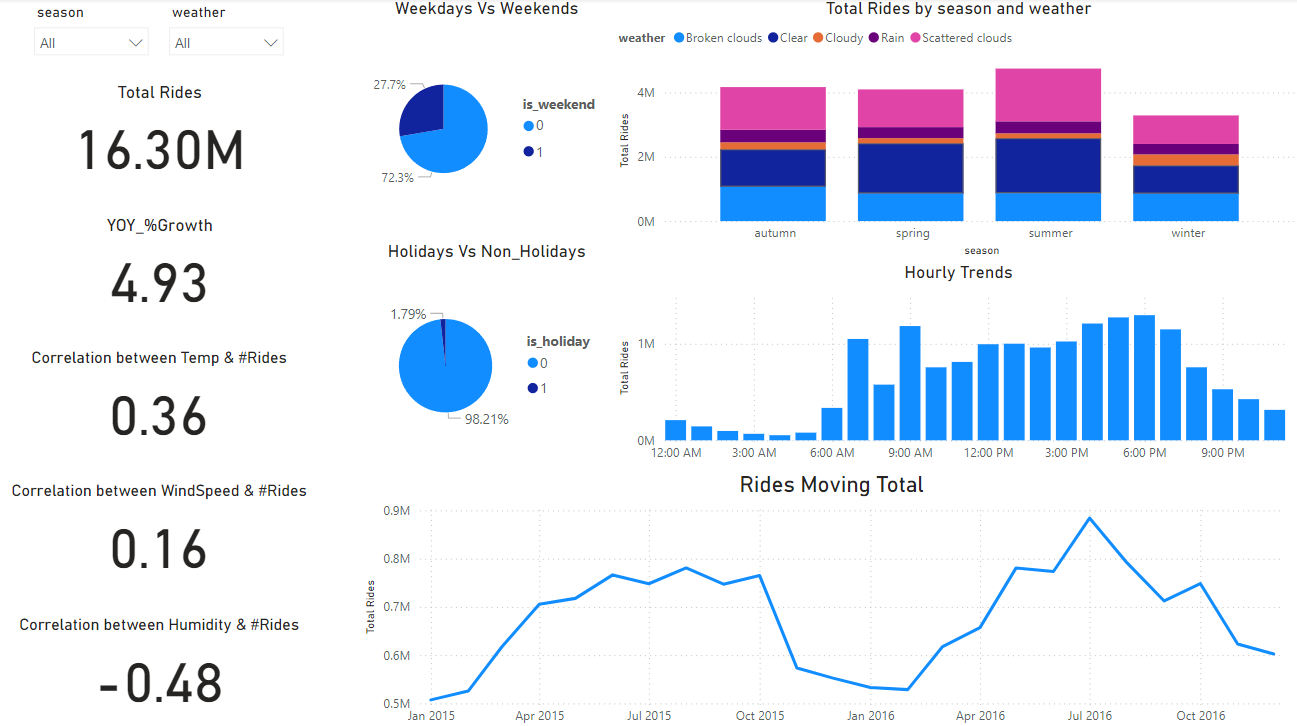

This screenshot's page, from the dashboard's own definition file:
{"tool":"powerbi","page":{"name":"DashBoard","canvas":[1280,720],"ordinal":0},"visuals":[{"type":"card","title":"Total Rides","fields":{"Values":["Table.Total Rides"]},"box":[26.3,81.5,266.6,100],"z":0},{"type":"pieChart","title":"Holidays Vs Non_Holidays","fields":{"Category":["TFL_Bike_Sharing.is_holiday"],"Y":["Measures_Table.Total Rides"]},"box":[355.8,237.2,248.2,226.2],"z":1000},{"type":"pieChart","title":"Weekdays Vs Weekends","fields":{"Y":["Measures_Table.Total Rides"],"Category":["TFL_Bike_Sharing.is_weekend"]},"box":[355.8,0,248.2,237.2],"z":2000},{"type":"columnChart","fields":{"Y":["Measures_Table.Total Rides"],"Category":["TFL_Bike_Sharing.season"],"Series":["TFL_Bike_Sharing.weather"]},"box":[604.5,0,675.2,258.3],"z":3000},{"type":"card","title":"Correlation between Humidity & #Rides","fields":{"Values":["Measures_Table.humidity and Total Rides correlation for time"]},"box":[0,604.1,319.2,100.3],"z":4000},{"type":"card","title":"Correlation between WindSpeed & #Rides","fields":{"Values":["Measures_Table.wind_speed and Total Rides correlation for time"]},"box":[0,473.5,319.2,100],"z":5000},{"type":"card","title":"Correlation between Temp & #Rides","fields":{"Values":["Measures_Table.temp_real_C and Total Rides correlation for time"]},"box":[0,342.6,319.2,100.3],"z":6000},{"type":"columnChart","title":"Hourly Trends","fields":{"Category":["TFL_Bike_Sharing.Time_only"],"Y":["Measures_Table.Total Rides"]},"box":[604.5,258.3,675.2,204.9],"z":7000},{"type":"slicer","fields":{"Values":["TFL_Bike_Sharing.weather"]},"box":[159,0,132.1,68.5],"z":8000},{"type":"slicer","fields":{"Values":["TFL_Bike_Sharing.season"]},"box":[26.9,0,132.1,66],"z":9000},{"type":"card","title":"YOY_%Growth","fields":{"Values":["Measures_Table.YOY Growth"]},"box":[54.4,212,210.3,100],"z":10000},{"type":"lineChart","title":"Rides Moving Total","fields":{"Category":["TFL_Bike_Sharing.time.Variation.Date Hierarchy.Year","TFL_Bike_Sharing.time.Variation.Date Hierarchy.Quarter","TFL_Bike_Sharing.time.Variation.Date Hierarchy.Month","TFL_Bike_Sharing.time.Variation.Date Hierarchy.Day"],"Y":["Measures_Table.Total Rides"]},"box":[356.4,463.1,923.4,256.8],"z":11000}]}

Visuals, with their boxes in screenshot pixels (x1, y1, x2, y2), scaled from the page's 1280x720 canvas onto the 1297x726 screenshot:
"Total Rides" card: 27,82,297,183
"Holidays Vs Non_Holidays" pieChart: 361,239,612,467
"Weekdays Vs Weekends" pieChart: 361,0,612,239
columnChart - Measures_Table.Total Rides x TFL_Bike_Sharing.season: 613,0,1296,260
"Correlation between Humidity & #Rides" card: 0,609,323,710
"Correlation between WindSpeed & #Rides" card: 0,477,323,578
"Correlation between Temp & #Rides" card: 0,345,323,447
"Hourly Trends" columnChart: 613,260,1296,467
slicer - TFL_Bike_Sharing.weather: 161,0,295,69
slicer - TFL_Bike_Sharing.season: 27,0,161,67
"YOY_%Growth" card: 55,214,268,315
"Rides Moving Total" lineChart: 361,467,1296,725
